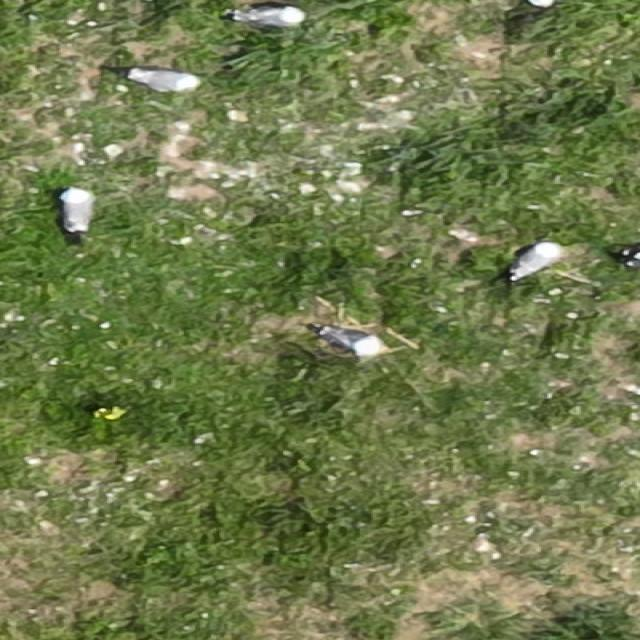umineko: (308, 323, 386, 360), (228, 3, 310, 33), (512, 244, 552, 276), (64, 192, 88, 232), (139, 72, 192, 90)
